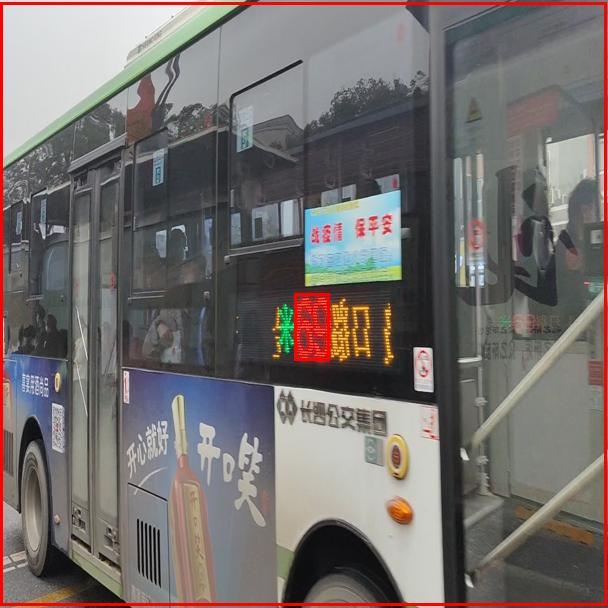bus: (0, 2, 606, 605)
screen: (294, 293, 329, 360)
